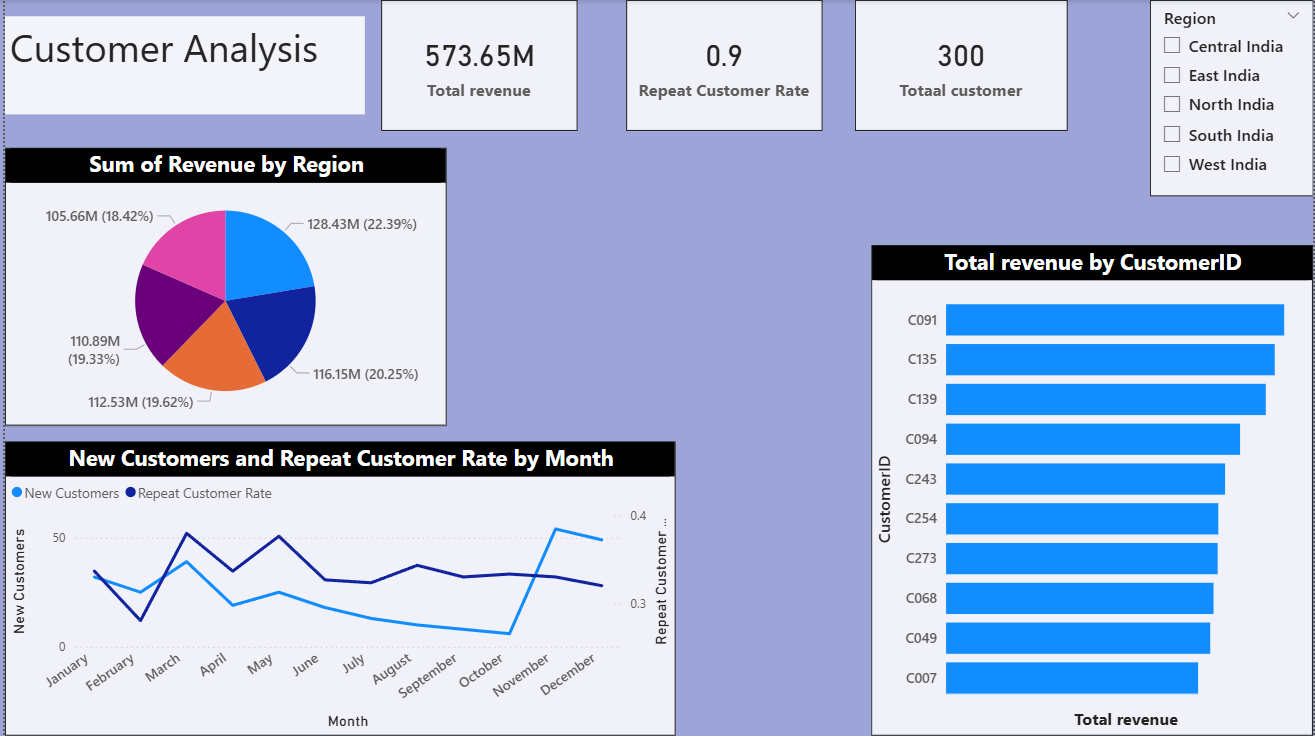

What the dashboard file says about the page in this screenshot:
{"tool":"powerbi","page":{"name":"Customer analysis","canvas":[1280,720],"ordinal":3},"visuals":[{"type":"card","fields":{"Values":["Customers.Totaal customer"]},"box":[208,176,192,192],"z":0},{"type":"card","fields":{"Values":["sales.Total revenue"]},"box":[1072,224,192,176],"z":1000},{"type":"card","fields":{"Values":["Customers.Repeat Customer Rate"]},"box":[1056,0,192,176],"z":2000},{"type":"clusteredBarChart","fields":{"Category":["Customers.CustomerID"],"Y":["sales.Total revenue"]},"box":[544,16,464,384],"z":3000},{"type":"pieChart","fields":{"Category":["sales.Region"],"Y":["Sum(sales.Revenue)"]},"box":[864,416,416,304],"z":4000},{"type":"lineChart","fields":{"Category":["sales.Date.Variation.Date Hierarchy.Month"],"Y":["Customers.New Customers"],"Y2":["Customers.Repeat Customer Rate"]},"box":[0,432,656,288],"z":5000},{"type":"textbox","box":[0,16,352,128],"z":5001},{"type":"slicer","fields":{"Values":["sales.Region"]},"box":[0,176,160,192],"z":5002}]}

Visuals, with their boxes in screenshot pixels (x1, y1, x2, y2), scaled from the page's 1280x720 canvas onto the 1315x736 screenshot:
card - Customers.Totaal customer: crop(214, 180, 411, 376)
card - sales.Total revenue: crop(1101, 229, 1299, 409)
card - Customers.Repeat Customer Rate: crop(1085, 0, 1282, 180)
clusteredBarChart - Customers.CustomerID x sales.Total revenue: crop(559, 16, 1036, 409)
pieChart - sales.Region x Sum(sales.Revenue): crop(888, 425, 1314, 735)
lineChart - sales.Date.Variation.Date Hierarchy.Month x Customers.New Customers: crop(0, 442, 674, 735)
textbox: crop(0, 16, 362, 147)
slicer - sales.Region: crop(0, 180, 164, 376)
